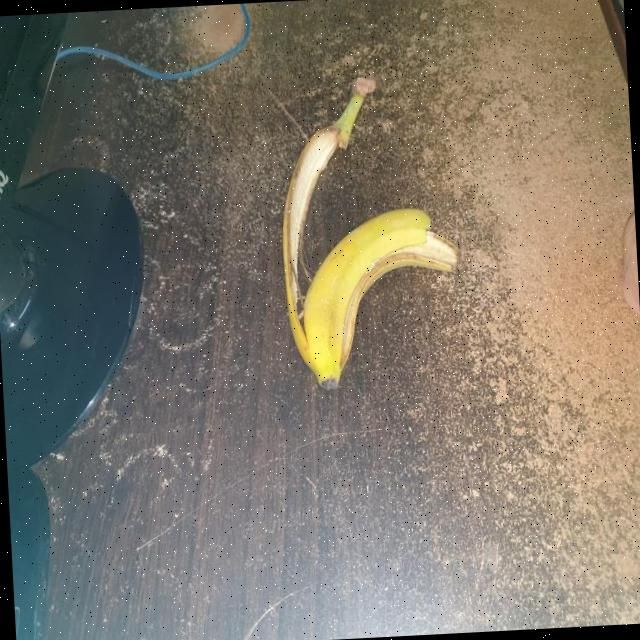banana-peel: (272, 73, 466, 393)
